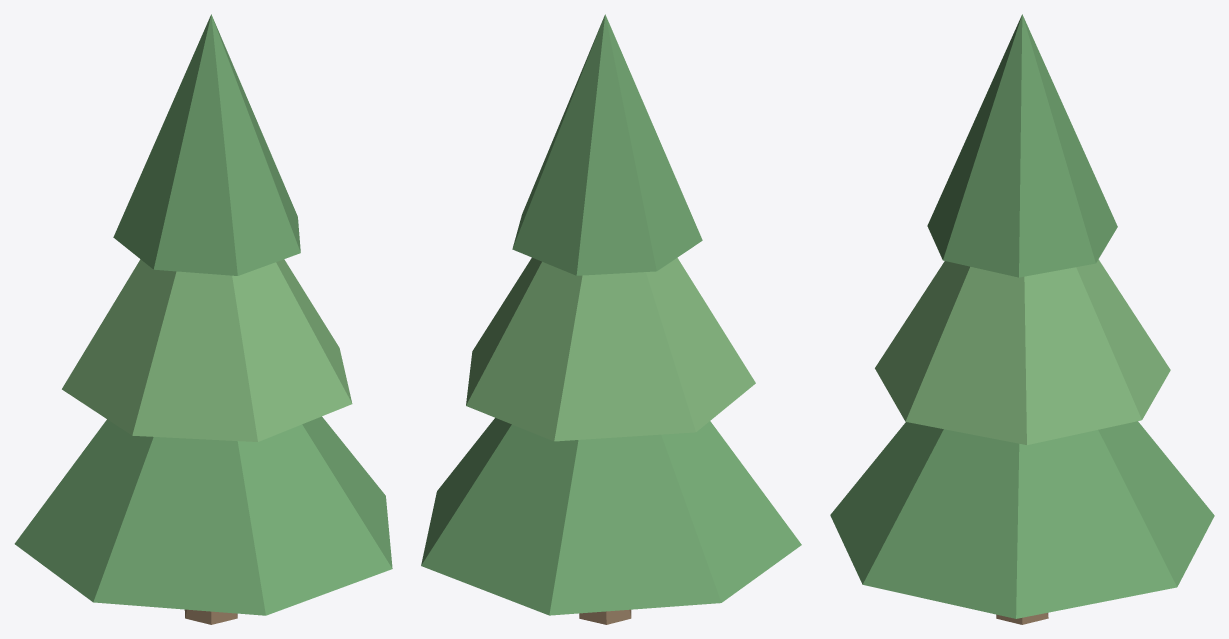
Rendered from pine.glb.
3 renders of one model, left to right at view 1: azimuth 30°, elevation 25°; view 2: azimuth 150°, elevation 25°; view 3: azimuth 270°, elevation 25°, orthographic.
Visible parts, largest first — view 1: Pine_L0, Pine_L1, Pine_L2, Pine_Trunk; view 2: Pine_L0, Pine_L1, Pine_L2, Pine_Trunk; view 3: Pine_L0, Pine_L1, Pine_L2.
Part boxes in pixels (x1=…): Pine_L0: x1=14, y1=416, x2=392, y2=615; Pine_L1: x1=62, y1=259, x2=352, y2=441; Pine_L2: x1=113, y1=14, x2=300, y2=275; Pine_Trunk: x1=184, y1=609, x2=237, y2=624; Pine_L0: x1=421, y1=418, x2=801, y2=615; Pine_L1: x1=466, y1=257, x2=755, y2=441; Pine_L2: x1=512, y1=14, x2=702, y2=275; Pine_Trunk: x1=579, y1=609, x2=631, y2=624; Pine_L0: x1=830, y1=421, x2=1214, y2=618; Pine_L1: x1=875, y1=259, x2=1170, y2=444; Pine_L2: x1=927, y1=14, x2=1117, y2=277.
Size of the model in its own units: 2.01 by 3.5 by 2.04.
